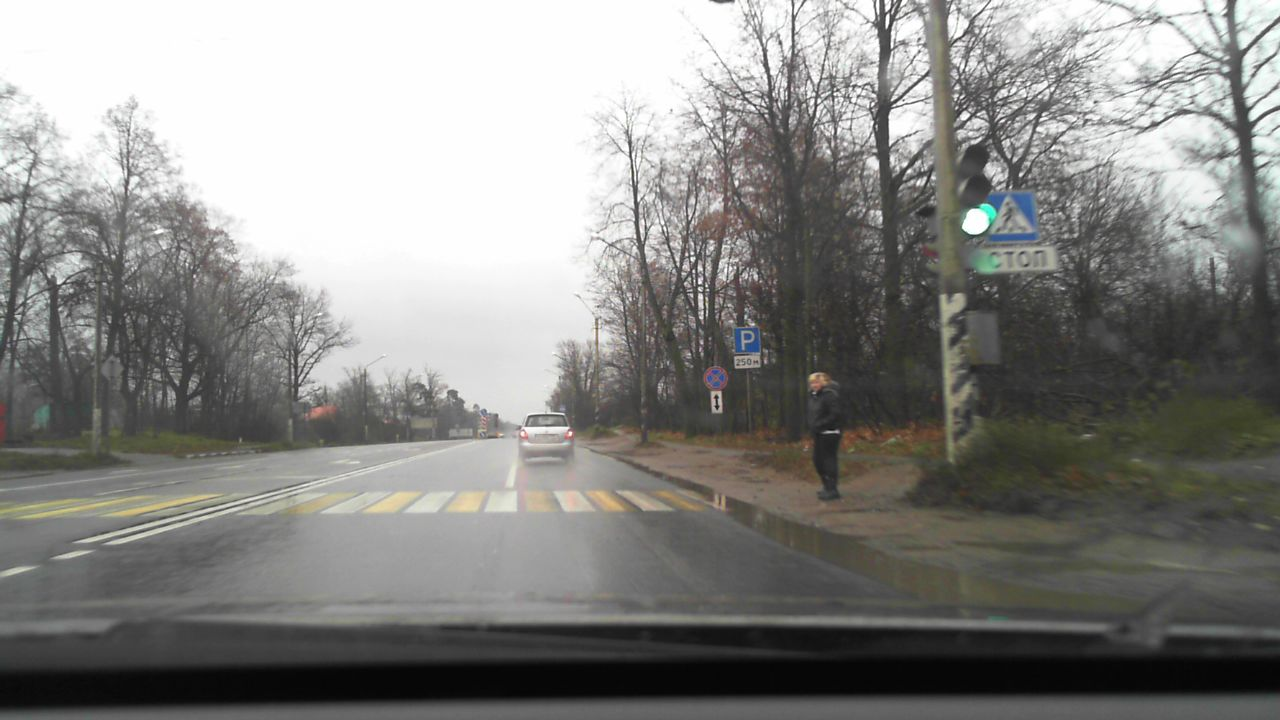No Parking: (703, 365, 728, 390)
